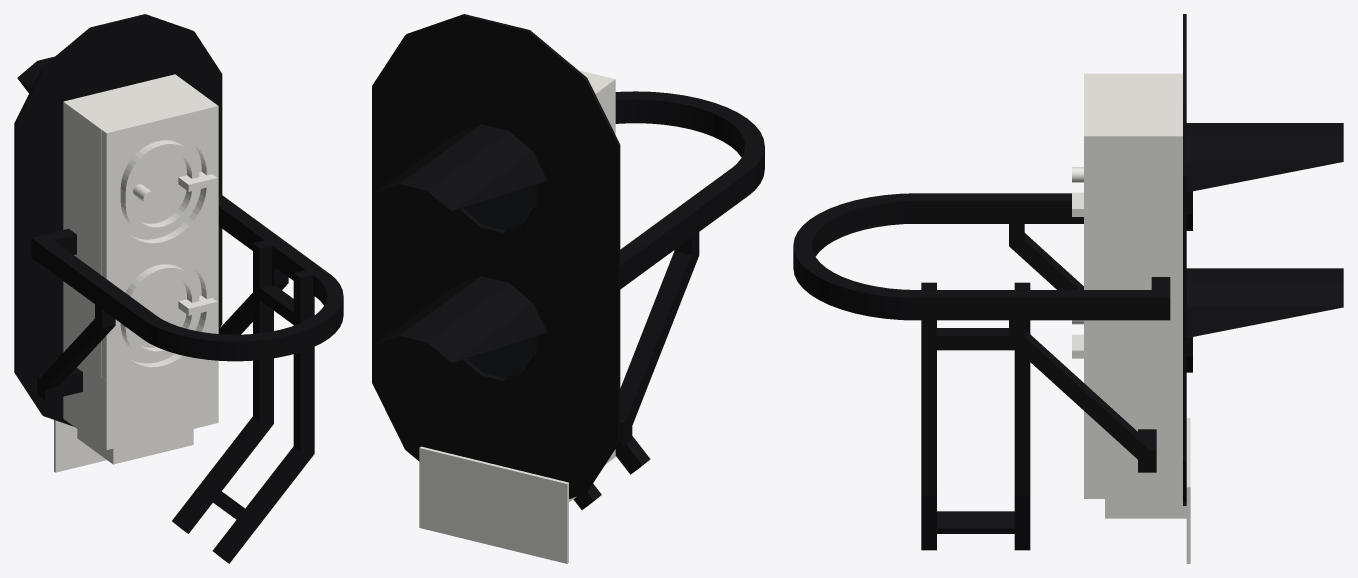
File: 2chamber_left.obj
3 views of the same model, side by side, from view 1: azimuth 30°, elevation 25°; view 2: azimuth 150°, elevation 25°; view 3: azimuth 270°, elevation 25° (orthographic). The views are drawn at different scales.
Visible parts, largest first — view 1: signal_head, signal_plate, railing, ladder_top, ladder_middle, signal_id; view 2: signal_plate, railing, signal_id, red, white, ladder_middle, signal_head; view 3: signal_head, railing, signal_plate, ladder_top, ladder_middle, signal_id.
Boxes of the visible parts, x1,y1,x2,y2 form: signal_head: (63, 74, 218, 464); signal_plate: (14, 14, 222, 426); railing: (31, 193, 343, 400); ladder_top: (253, 240, 314, 456); ladder_middle: (172, 416, 313, 563); signal_id: (54, 420, 106, 472); signal_plate: (372, 14, 620, 499); railing: (615, 91, 764, 446); signal_id: (419, 446, 568, 563); red: (463, 185, 533, 229); white: (467, 337, 533, 377); ladder_middle: (573, 436, 650, 509); signal_head: (569, 70, 615, 502); signal_head: (1072, 73, 1186, 518); railing: (793, 193, 1170, 472); signal_plate: (1183, 14, 1343, 505); ladder_top: (921, 282, 1030, 495); ladder_middle: (921, 495, 1030, 550); signal_id: (1186, 418, 1190, 563).
Size of the model in its own units: 0.61 by 1.29 by 1.23.
